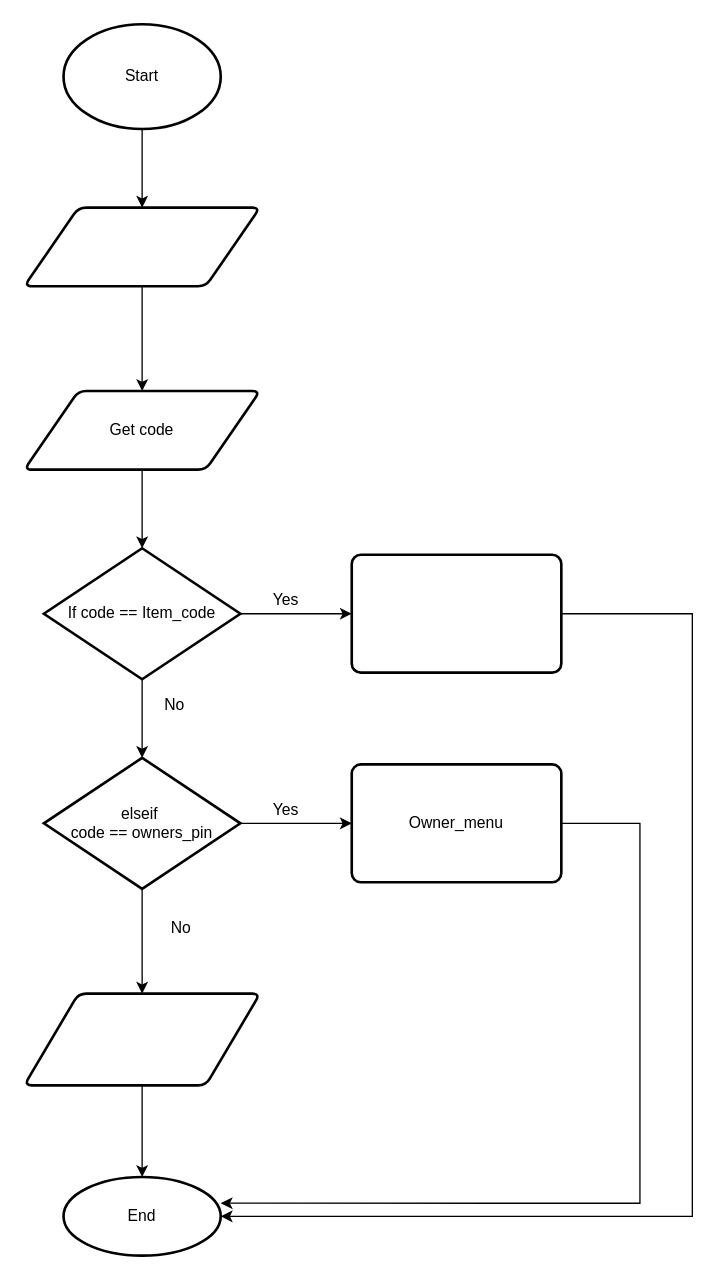
This 726x1279 diagram has some shape labels left out. The centre of each missing label's shape, as x and y in pixels:
Customer_menu: the point at 456,613
display Error_message: the point at 141,1039
Prompt user for code: the point at 141,246
